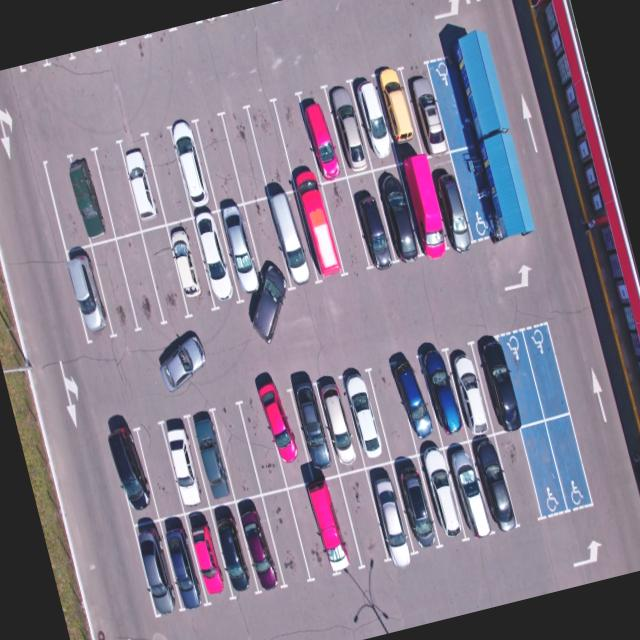car: (306, 471, 364, 578), (260, 382, 316, 486), (394, 153, 450, 255), (339, 364, 394, 465), (64, 146, 119, 246), (118, 132, 172, 232), (386, 452, 440, 552), (105, 423, 158, 524), (288, 379, 340, 481), (364, 458, 416, 560), (187, 406, 240, 506), (60, 244, 113, 344), (234, 496, 287, 595), (187, 209, 240, 308), (162, 217, 215, 316), (160, 415, 212, 515), (313, 372, 365, 472), (344, 168, 396, 268), (390, 354, 441, 454), (417, 346, 468, 446), (166, 120, 218, 218), (442, 340, 494, 438), (264, 188, 316, 286), (215, 201, 268, 297), (414, 448, 466, 544), (372, 161, 422, 260), (466, 432, 516, 530), (182, 504, 232, 602), (350, 70, 400, 168), (211, 502, 261, 600), (294, 181, 344, 278), (323, 82, 373, 177), (443, 438, 492, 534), (476, 336, 524, 434), (298, 88, 348, 182), (374, 68, 424, 162), (158, 511, 206, 606), (431, 150, 476, 250), (132, 518, 178, 612), (406, 62, 452, 156)
free: (336, 466, 392, 572), (112, 230, 166, 332), (40, 154, 94, 255), (210, 400, 264, 500), (142, 127, 196, 227), (90, 140, 144, 240), (88, 236, 141, 336), (140, 222, 193, 322), (236, 394, 288, 495), (365, 360, 417, 460), (286, 479, 336, 582), (134, 421, 186, 520), (259, 488, 310, 587), (318, 176, 370, 273), (272, 91, 324, 188), (517, 418, 568, 516), (495, 426, 545, 524), (195, 113, 246, 209), (241, 196, 292, 291), (523, 322, 572, 420), (498, 330, 546, 430), (545, 412, 595, 508), (244, 101, 294, 196), (220, 108, 270, 202)
